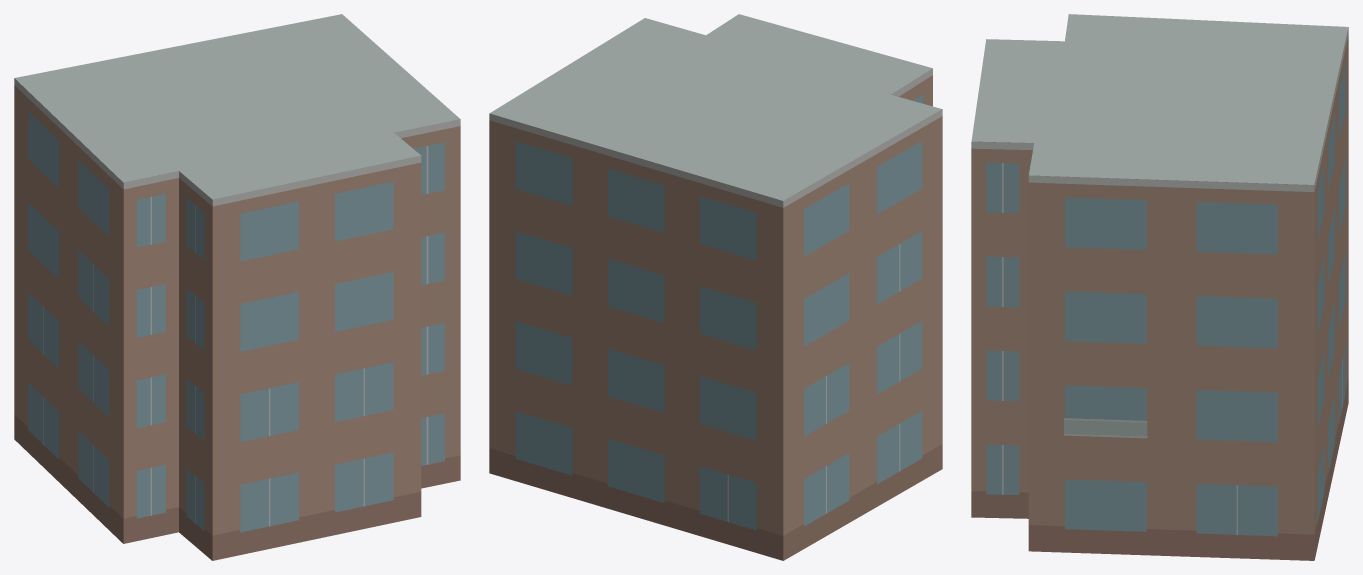
Rendered from survey-upis-32653960.glb.
3 views of the same model, side by side, from view 1: azimuth 30°, elevation 25°; view 2: azimuth 150°, elevation 25°; view 3: azimuth 270°, elevation 25° (orthographic). The views are drawn at different scales.
Parts seen in each view (by area): view 1: survey-upis-32653960.tmp; view 2: survey-upis-32653960.tmp; view 3: survey-upis-32653960.tmp.
Boxes of the visible parts, <box> form: survey-upis-32653960.tmp: <box>14,14,460,560</box>; survey-upis-32653960.tmp: <box>489,14,942,560</box>; survey-upis-32653960.tmp: <box>971,14,1348,560</box>.
Bounding box in the file's own units: 12.5 × 12.8 × 11.65.
